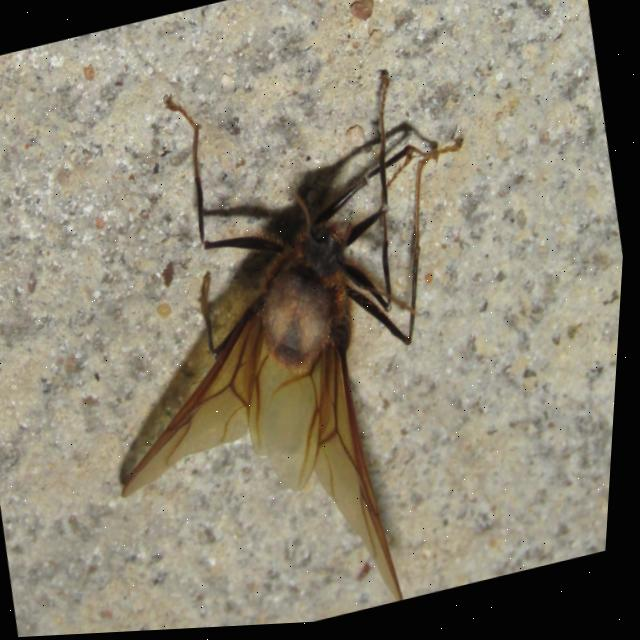Alive-Male-Alate: (51, 49, 553, 637)
